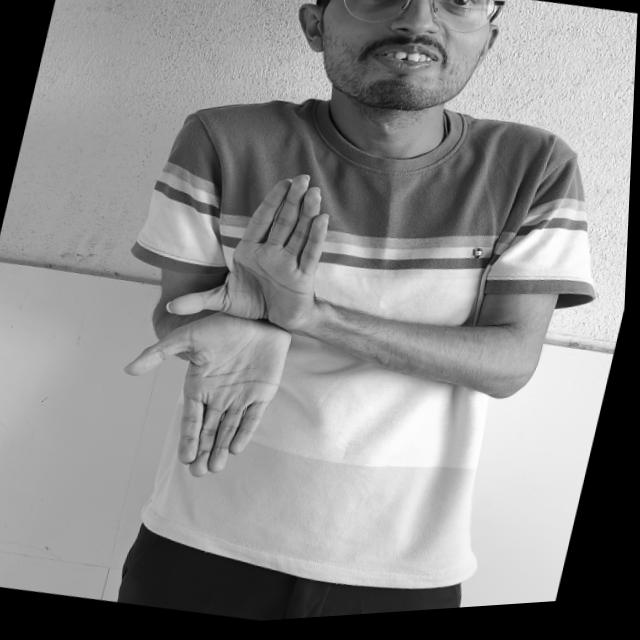Morning: (77, 128, 433, 535)
